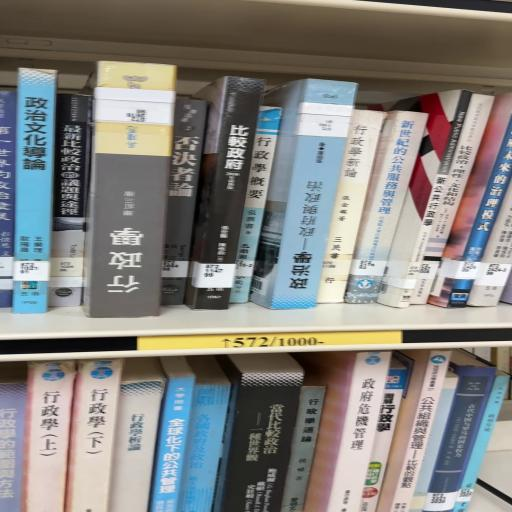reverse: (250, 80, 359, 310), (84, 62, 176, 319)
